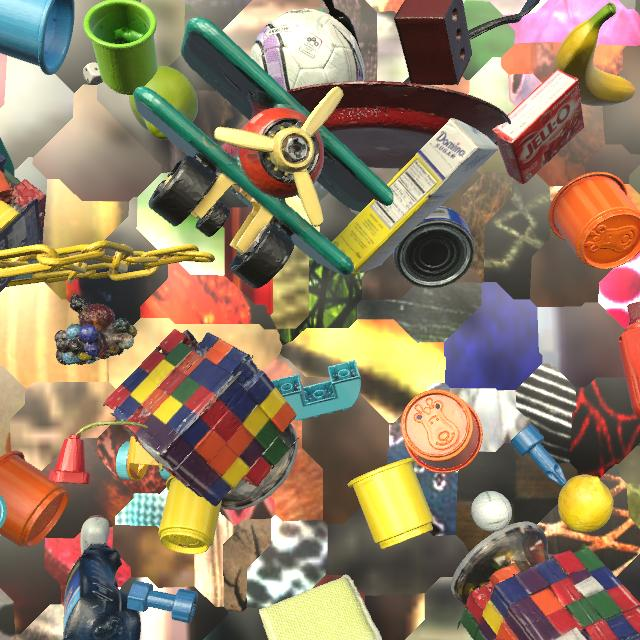ycb_004_sugar_box: (332, 118, 499, 274)
ycb_007_tuna_fish_can: (393, 205, 475, 288)
ycb_009_gelatin_box: (492, 69, 584, 184)
ycb_011_banana: (554, 2, 635, 106)
ycb_012_strawberry: (493, 639, 505, 640)
ycb_014_lemon: (558, 475, 613, 532)
ycb_016_pear: (129, 66, 198, 140)
